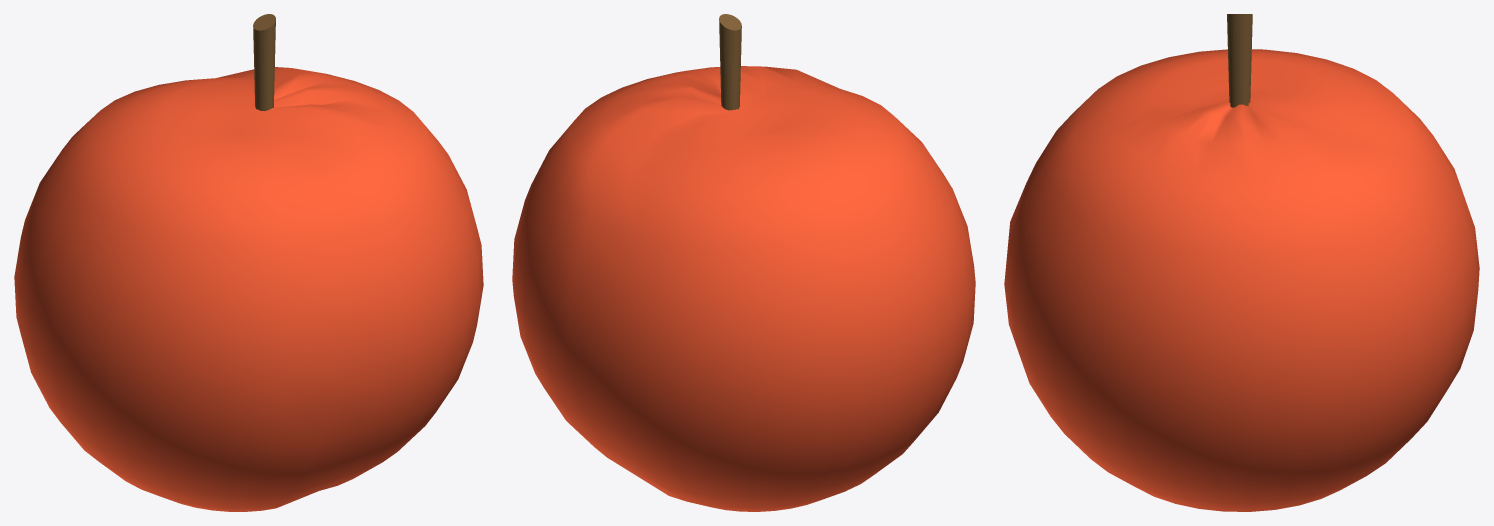
The model's file is ORANGE.fbx.
The picture shows the model from 3 angles, left to right: view 1: azimuth 30°, elevation 25°; view 2: azimuth 150°, elevation 25°; view 3: azimuth 270°, elevation 25°; orthographic projection. The views are drawn at different scales.
Visible parts, largest first — view 1: Sphere.001, Cylinder.002; view 2: Sphere.001, Cylinder.002; view 3: Sphere.001, Cylinder.002.
Part boxes in pixels (x1,y1,x2,y2): Sphere.001: (14,67,483,511); Cylinder.002: (253,14,275,110); Sphere.001: (512,66,975,511); Cylinder.002: (719,14,741,110); Sphere.001: (1004,49,1479,511); Cylinder.002: (1227,14,1252,107).
Size of the model in its own units: 643 by 708 by 619.
